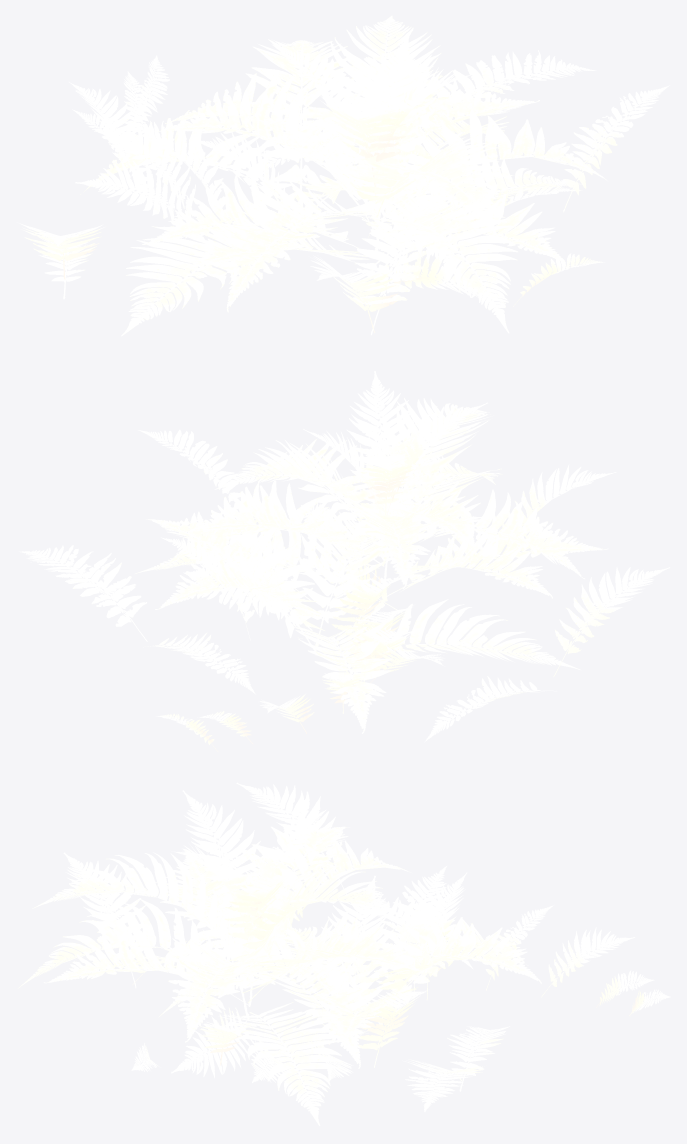
3 renders of one model, top to bottom at view 1: azimuth 30°, elevation 25°; view 2: azimuth 150°, elevation 25°; view 3: azimuth 270°, elevation 25°, orthographic. The views are drawn at different scales.
Visible parts, largest first — view 1: SM_DR_Fern_02_LOD0; view 2: SM_DR_Fern_02_LOD0; view 3: SM_DR_Fern_02_LOD0.
Part boxes in pixels (box(x1,y1,x2,y2)): SM_DR_Fern_02_LOD0: box(17, 15, 669, 336); SM_DR_Fern_02_LOD0: box(19, 371, 669, 751); SM_DR_Fern_02_LOD0: box(18, 782, 670, 1125).
Bounding box in the file's own units: 1.08 × 0.3968 × 1.07.
Materials: 1 (1 with a texture image).
